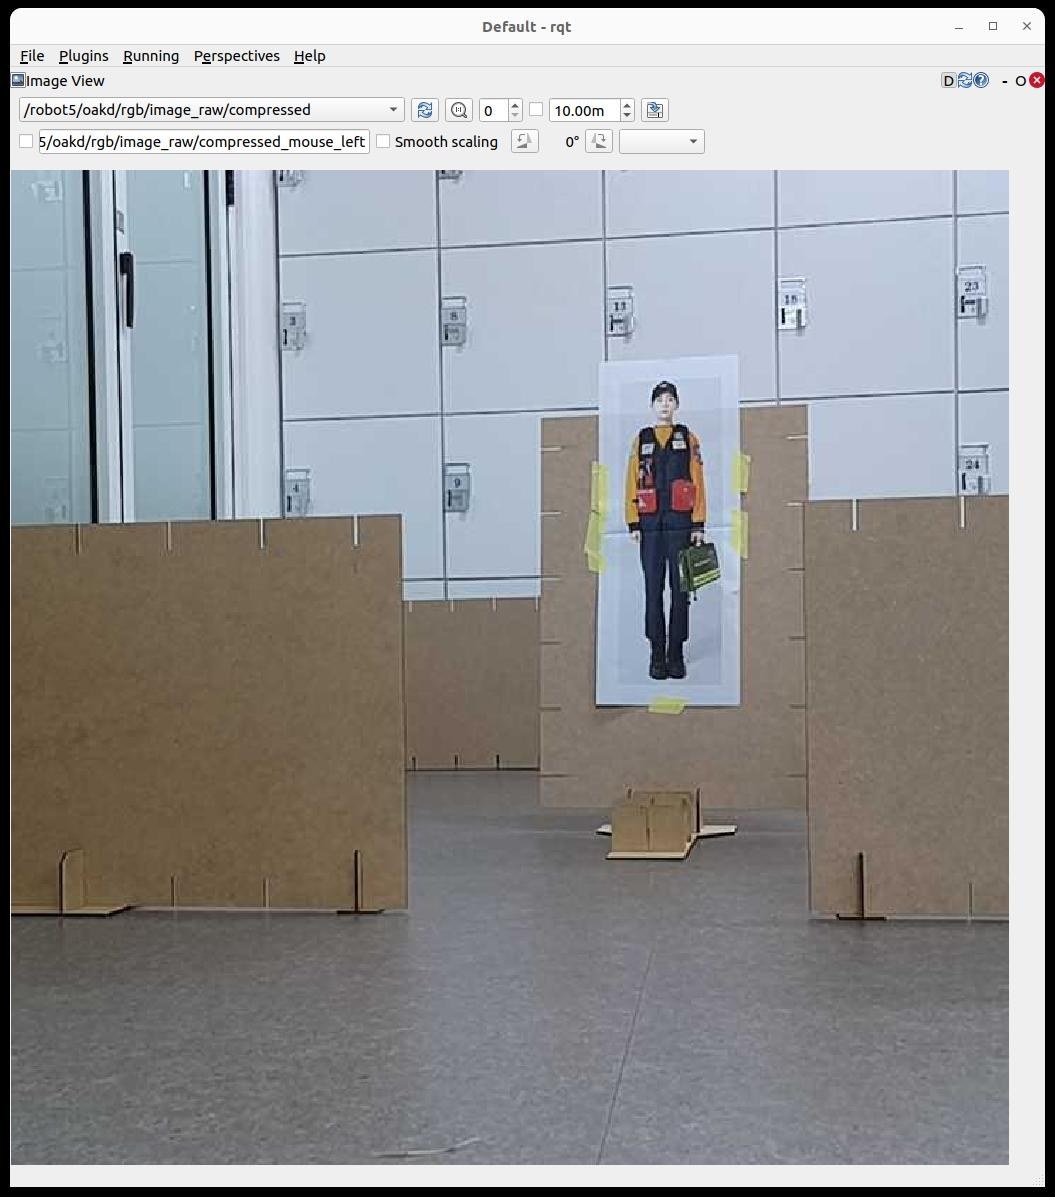Responder: (628, 379, 705, 679)
